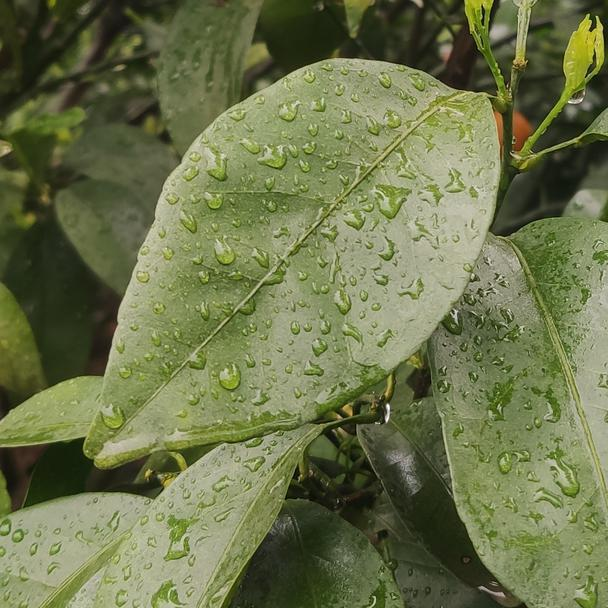shoot: (542, 16, 608, 126)
